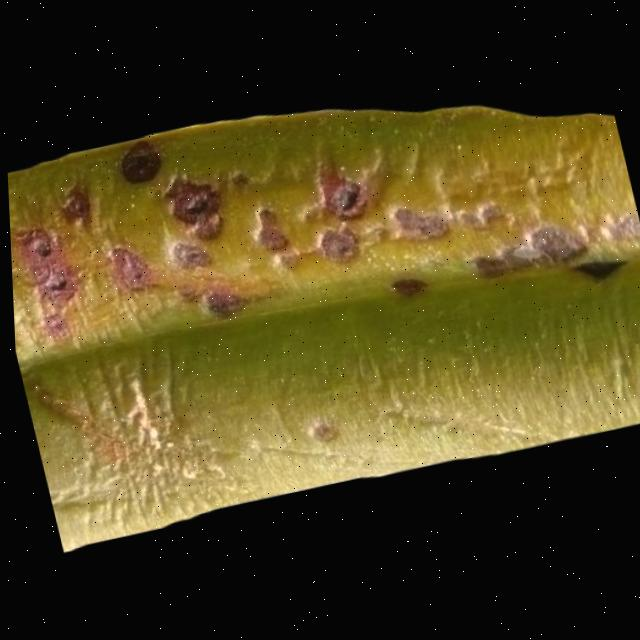mite: (48, 99, 388, 338), (6, 128, 239, 321), (110, 127, 230, 257), (158, 172, 228, 249), (45, 174, 102, 239), (111, 137, 164, 189), (244, 205, 289, 260), (311, 223, 361, 270), (321, 177, 369, 224), (568, 255, 627, 290), (195, 284, 246, 322), (53, 182, 93, 228), (165, 237, 210, 277), (38, 268, 70, 300), (27, 233, 53, 261)
